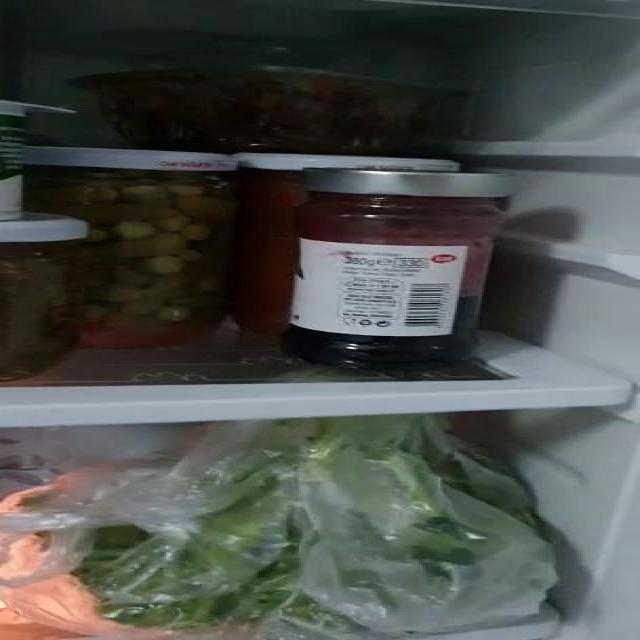lettuce: (68, 427, 554, 625)
